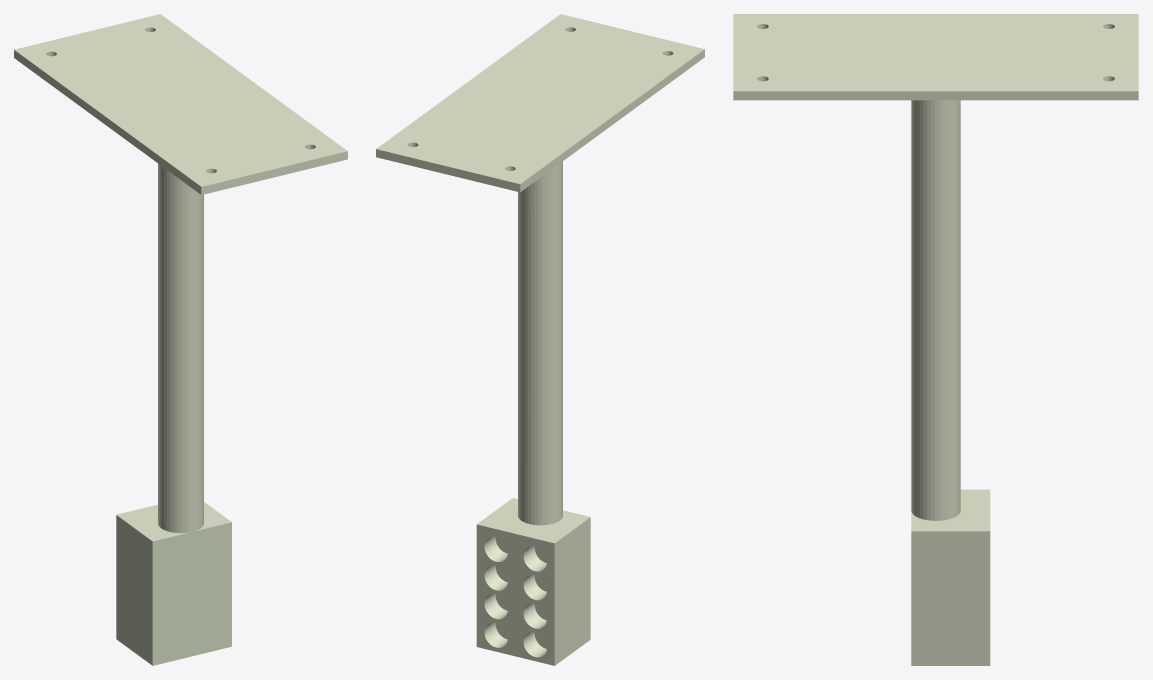
Rendered from suporte_gancho_eletroquad.dae.
3 views of the same model, side by side, from view 1: azimuth 30°, elevation 25°; view 2: azimuth 150°, elevation 25°; view 3: azimuth 270°, elevation 25° (orthographic). The views are drawn at different scales.
Visible parts, largest first — view 1: SuporteGancho; view 2: SuporteGancho; view 3: SuporteGancho.
Part boxes in pixels (left/top/right/bottom): SuporteGancho: left=14, top=14, right=347, bottom=665; SuporteGancho: left=376, top=14, right=704, bottom=665; SuporteGancho: left=733, top=14, right=1138, bottom=665.
Size of the model in its own units: 0.037 by 0.0819 by 0.132.
